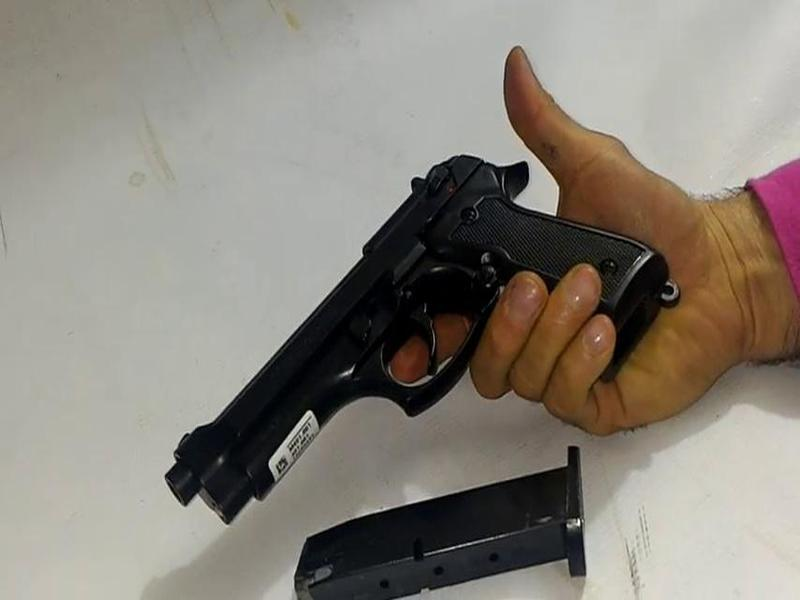Pistola: (107, 114, 693, 510)
